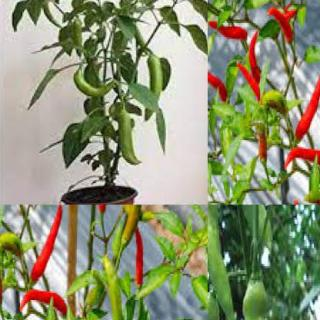green_chilli: (208, 205, 237, 319), (241, 278, 299, 319), (115, 108, 146, 166), (100, 258, 128, 319), (71, 64, 121, 98), (143, 52, 166, 122), (73, 18, 85, 59)
